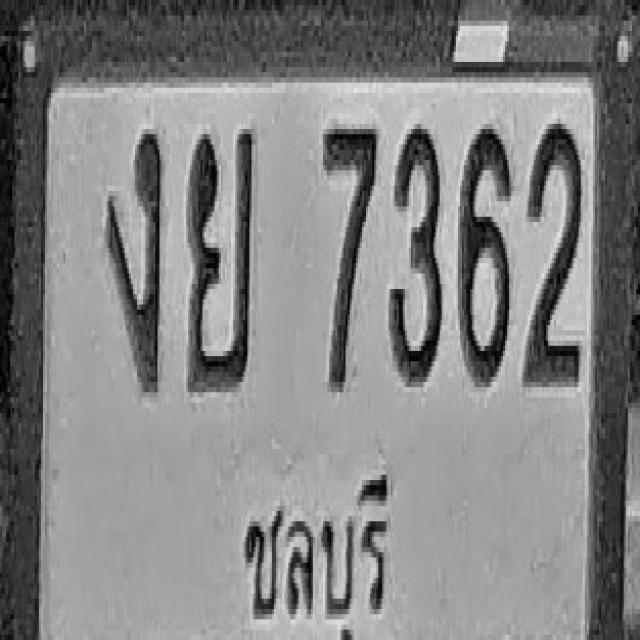16NgorNgu: (106, 129, 162, 392)
2: (523, 122, 581, 384)
3: (390, 124, 440, 382)
43YorYak: (187, 126, 255, 390)
6: (459, 124, 510, 382)
7: (323, 121, 376, 390)
Chonburi: (231, 452, 416, 640)
